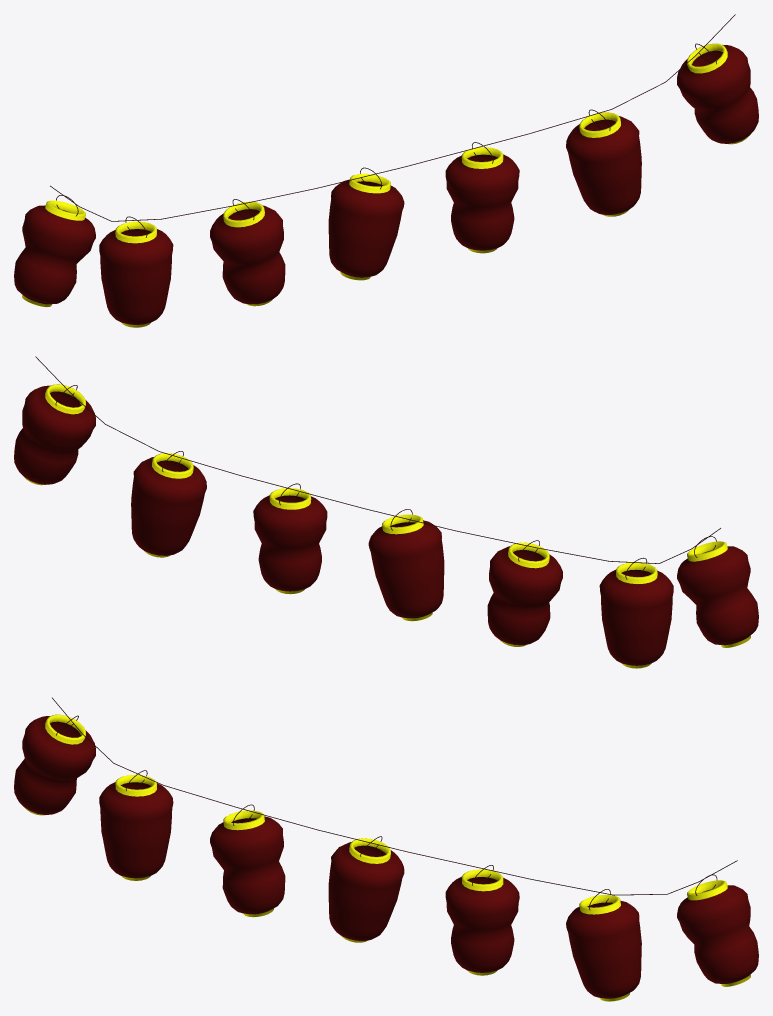
The model's file is guirlande_de_lanterne.FBX.
The picture shows the model from 3 angles, top to bottom: view 1: azimuth 30°, elevation 25°; view 2: azimuth 150°, elevation 25°; view 3: azimuth 330°, elevation 25°; orthographic projection.
Visible parts, largest first — view 1: Circle004; view 2: Circle004; view 3: Circle004.
Part boxes in pixels (left/top/right/bottom): Circle004: left=14, top=14, right=758, bottom=327; Circle004: left=14, top=356, right=758, bottom=668; Circle004: left=14, top=697, right=758, bottom=1001.
Bounding box in the file's own units: 268 × 59.14 × 22.52.
